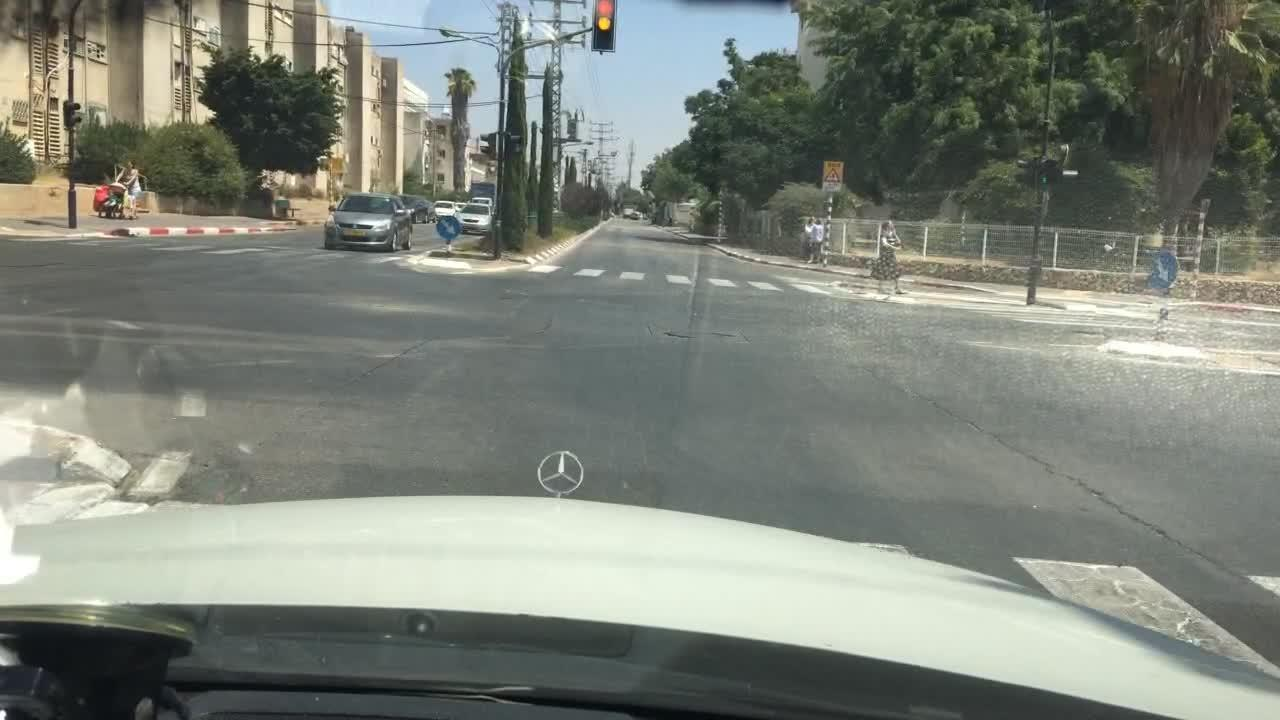Mercedes: (535, 430, 595, 501)
